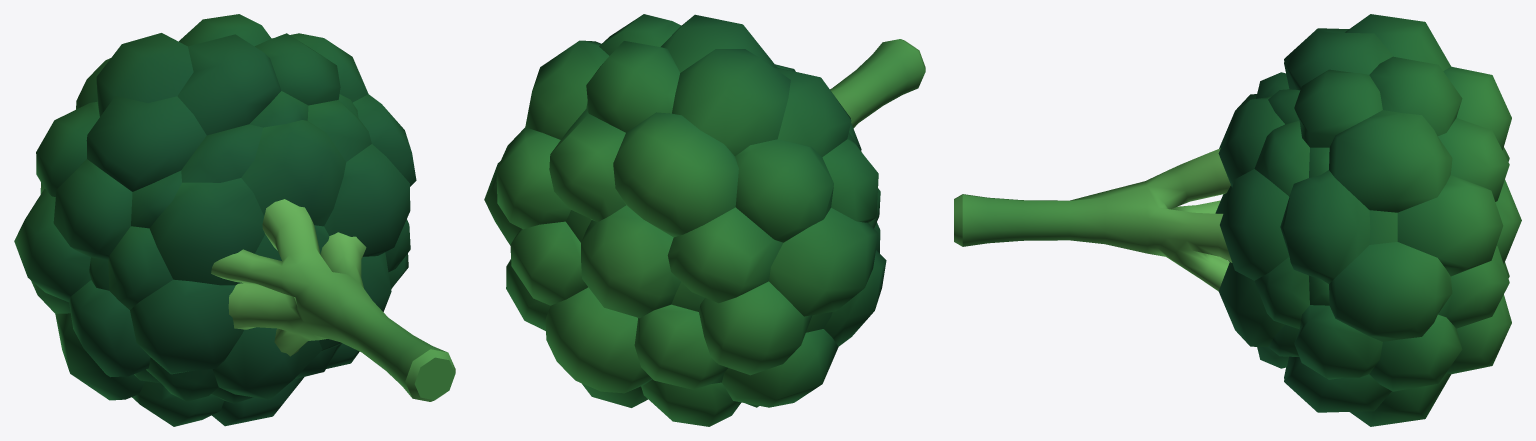
Rendered from Melee_Broccoli.fbx.
The picture shows the model from 3 angles, left to right: view 1: azimuth 30°, elevation 25°; view 2: azimuth 150°, elevation 25°; view 3: azimuth 270°, elevation 25°; orthographic projection. The views are drawn at different scales.
Parts seen in each view (by area): view 1: Melee_Broccoli; view 2: Melee_Broccoli; view 3: Melee_Broccoli.
Boxes of the visible parts, box(x1,y1,x2,y2) form: Melee_Broccoli: box(14, 14, 455, 426); Melee_Broccoli: box(484, 14, 925, 426); Melee_Broccoli: box(954, 14, 1521, 426).
Bounding box in the file's own units: 0.744 × 0.7204 × 1.03.
